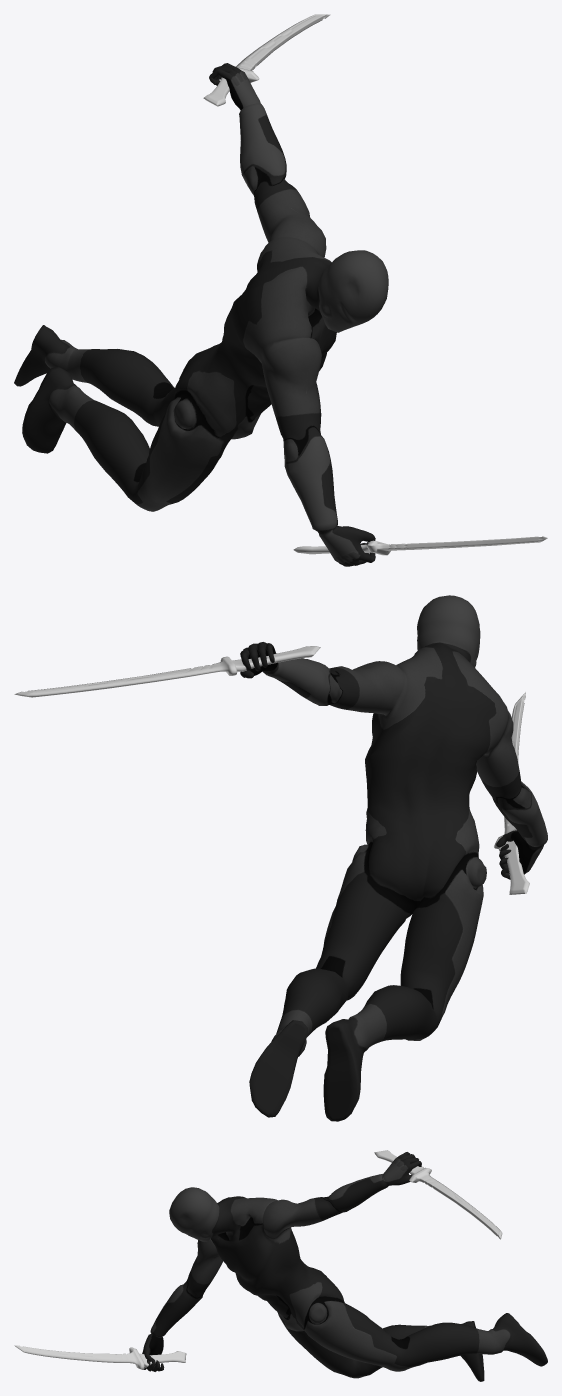
The picture shows the model from 3 angles, top to bottom: view 1: azimuth 30°, elevation 25°; view 2: azimuth 150°, elevation 25°; view 3: azimuth 270°, elevation 25°; orthographic projection. The views are drawn at different scales.
Visible parts, largest first — view 1: Cyborg_Ninja_Killer, Sword_l, Sword_l001; view 2: Cyborg_Ninja_Killer, Sword_l, Sword_l001; view 3: Cyborg_Ninja_Killer, Sword_l001, Sword_l.
Boxes of the visible parts, x1,y1,x2,y2 form: Cyborg_Ninja_Killer: [14, 63, 388, 566]; Sword_l: [203, 14, 330, 106]; Sword_l001: [293, 536, 547, 555]; Cyborg_Ninja_Killer: [240, 595, 547, 1121]; Sword_l: [14, 646, 320, 697]; Sword_l001: [494, 692, 529, 894]; Cyborg_Ninja_Killer: [142, 1152, 547, 1381]; Sword_l001: [14, 1345, 186, 1369]; Sword_l: [374, 1150, 502, 1239].
Size of the model in its own units: 109 by 128 by 231.
